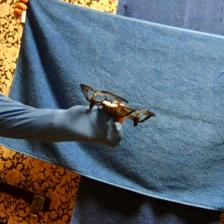drone: (79, 83, 157, 130)
